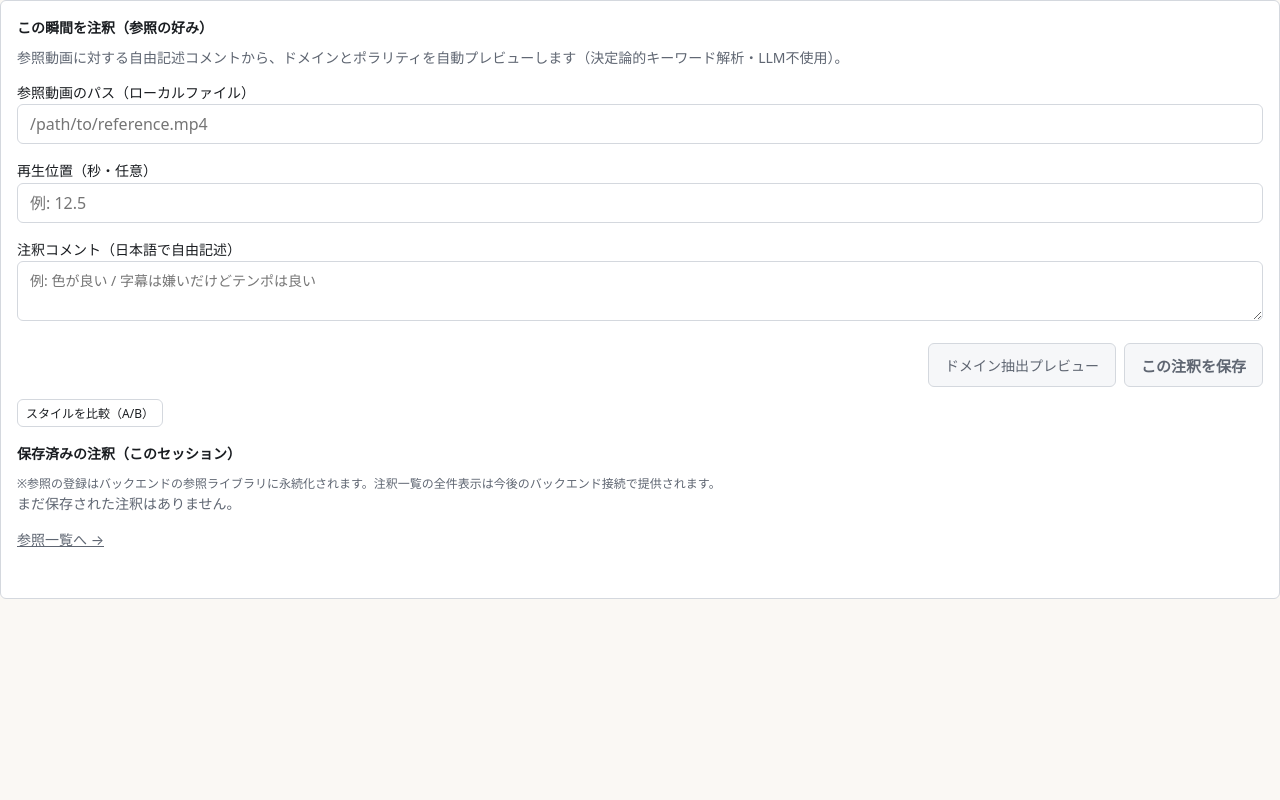
Test: ReferenceAnnotator（注釈→抽出→修正→保存） › バックエンドの曖昧さヒント（needs_review）でもパネルが出る（無依頼では出ない）
Type "全部良い" into the text box labelled "注釈コメント（日本語で自由記述）" at [640, 291], box [17,261,1263,321]
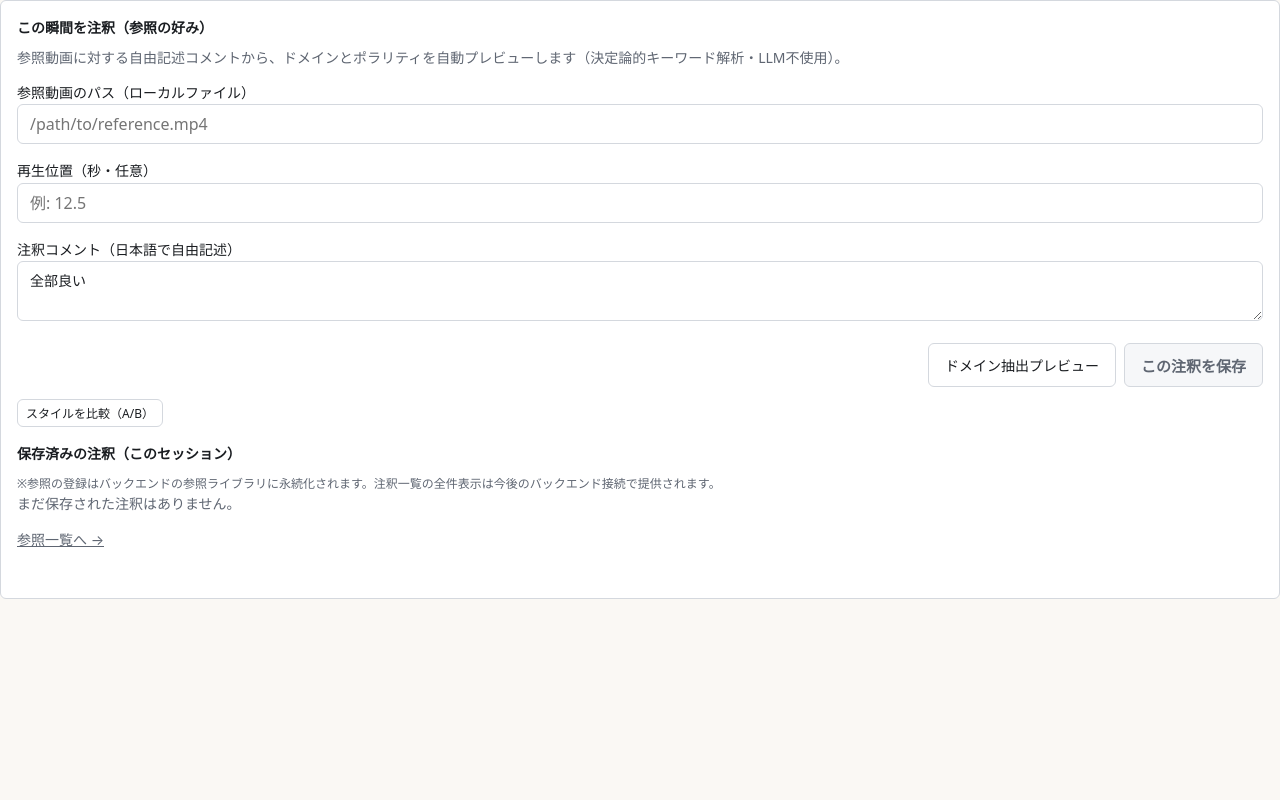
Click the button with test id "parse-preview-button" at [1022, 365], box [928,343,1116,387]
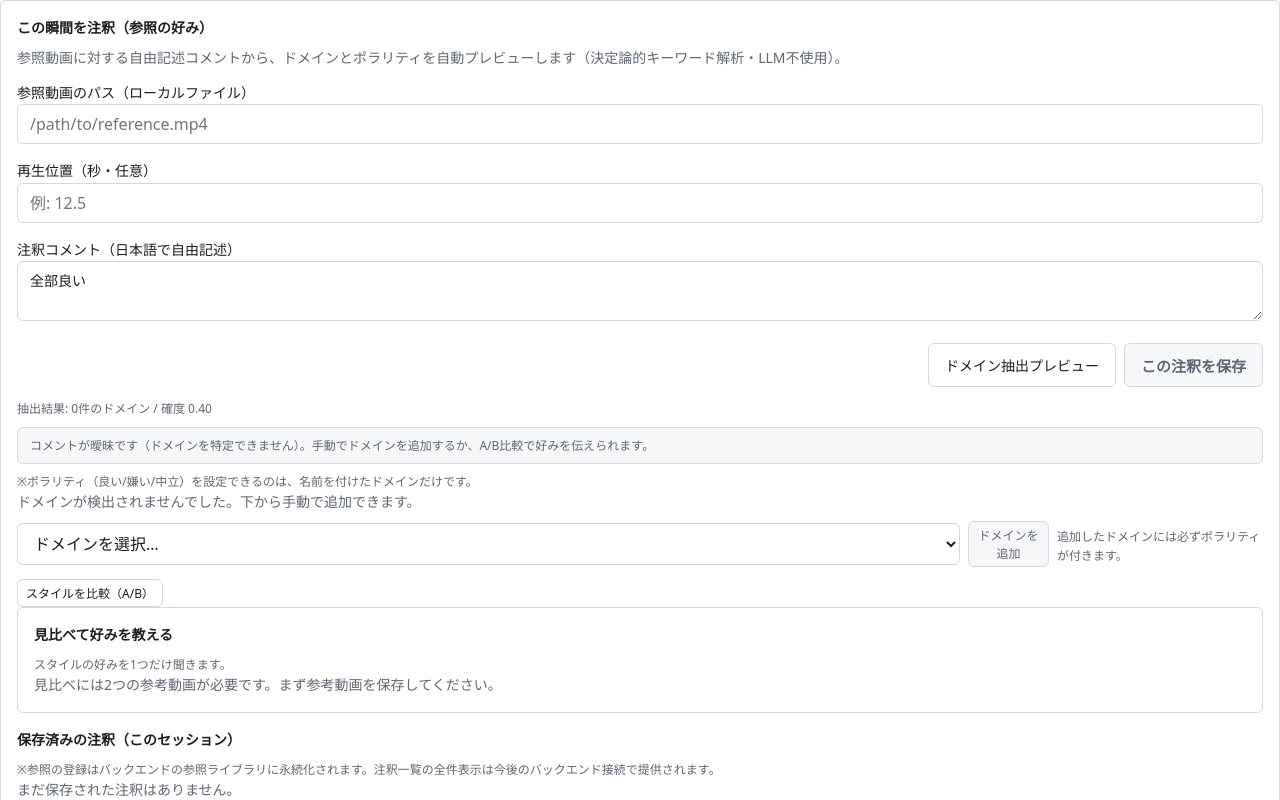
Result: the text "コメントが曖昧です（ドメインを特定できません）。手動でドメインを追加するか、A/B比較で好みを伝えられます。" is shown at [17,426,1263,464]
Result: the element with test id "pairwise-prompt" is shown at [17,607,1263,713]
